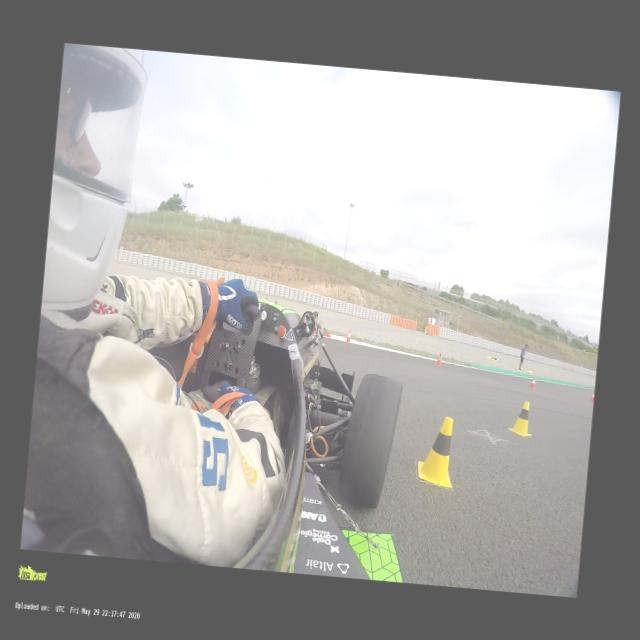orange_cone: (434, 352, 442, 366), (344, 329, 351, 344), (528, 376, 536, 389), (589, 391, 594, 402)
yellow_cone: (416, 413, 458, 488), (506, 399, 534, 437)
